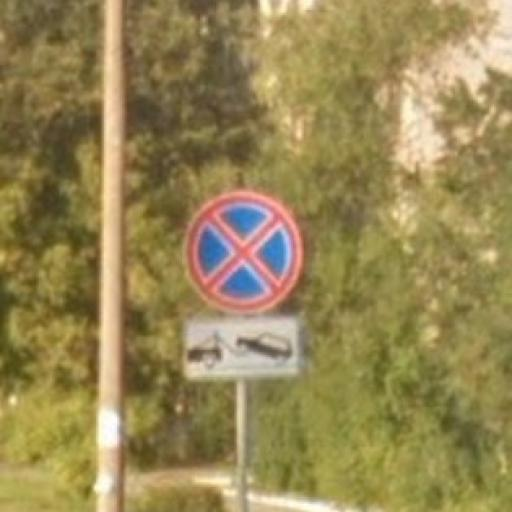traffic_sign: (182, 186, 307, 320)
